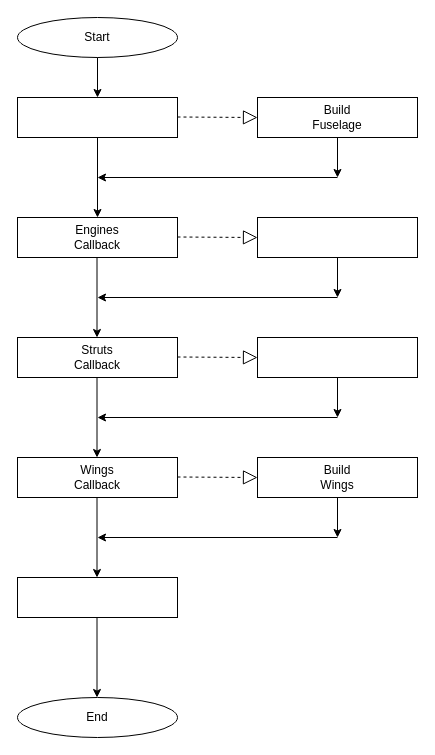
Image size: 435x755. Some labels were removed from this diagram. Each missing label, with the box of its shape:
Assemble Aircraft: (16, 576, 178, 618)
Build Engines: (256, 216, 418, 258)
Build Struts: (256, 336, 418, 378)
Fuselage Callback: (16, 96, 178, 138)
